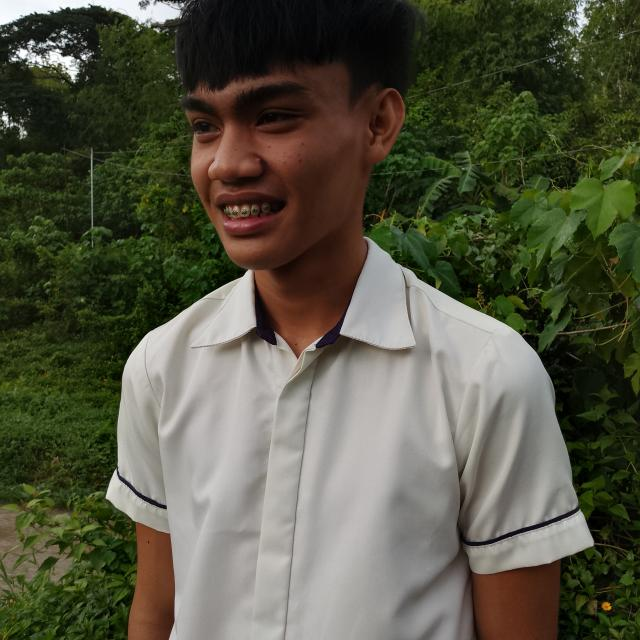education_male_uniform: (86, 212, 640, 639)
